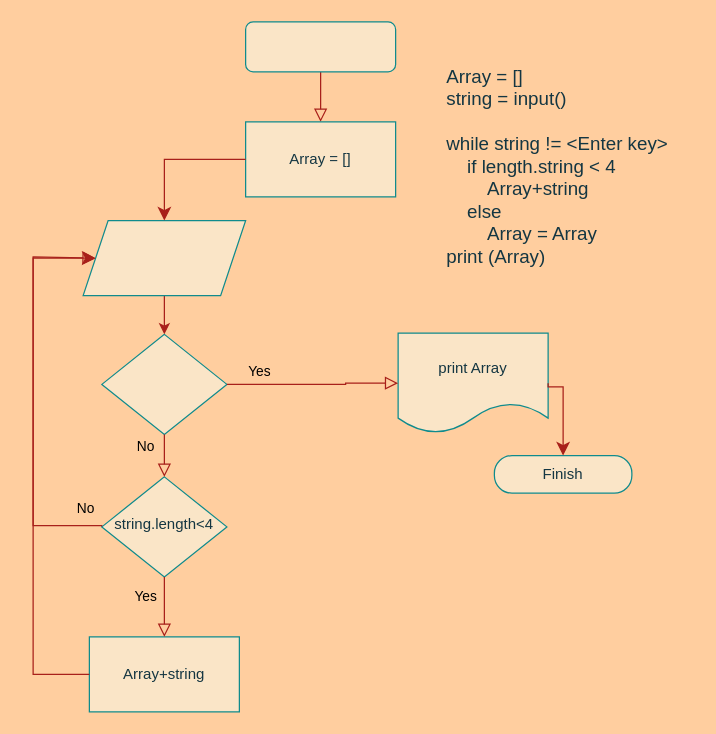
The diagram is 716 pixels wide and 734 high, and some of its shapes have lost their labels. The centre of each missing label's shape, as x and y in pixels:
input string: (x=164, y=257)
start: (x=320, y=46)
string = <Enter> key: (x=164, y=383)
